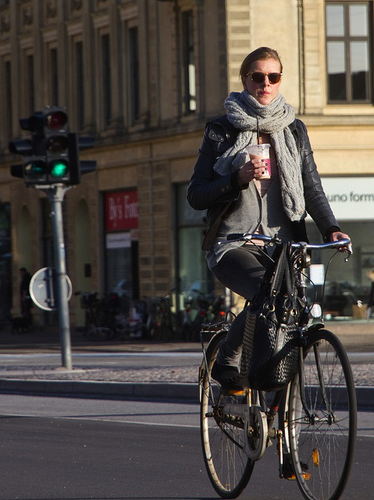bikerider: (181, 39, 360, 499)
